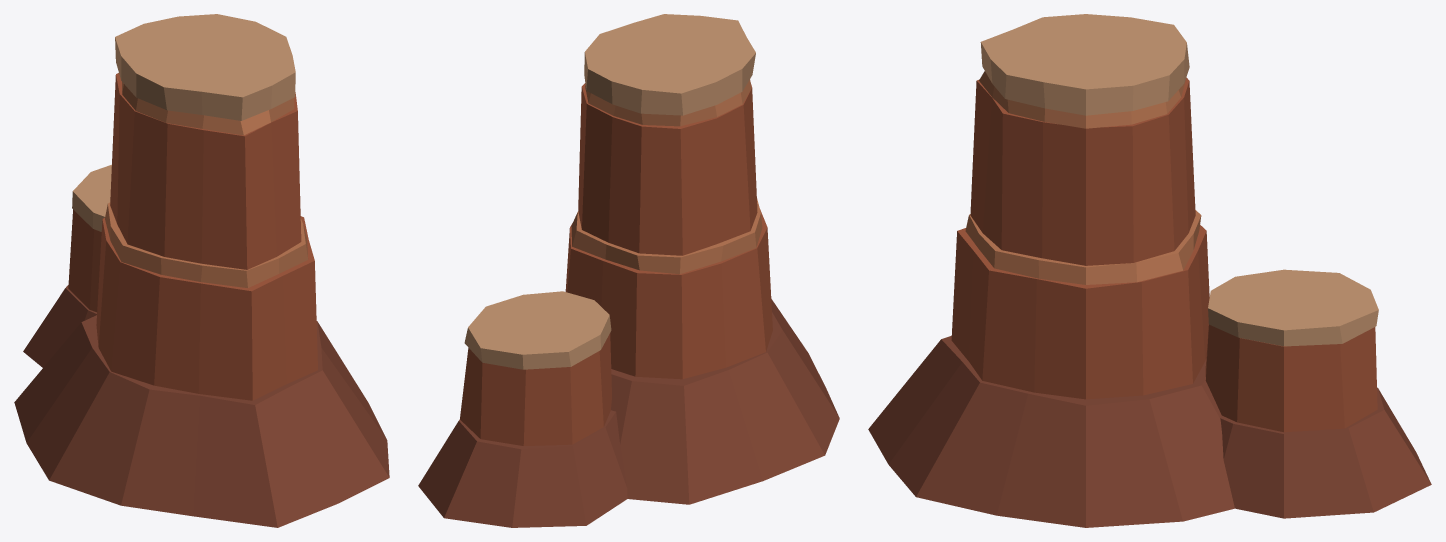
The model's file is butte.glb.
3 views of the same model, side by side, from view 1: azimuth 30°, elevation 25°; view 2: azimuth 150°, elevation 25°; view 3: azimuth 270°, elevation 25° (orthographic). The views are drawn at different scales.
Parts seen in each view (by area): view 1: butte; view 2: butte; view 3: butte.
Part boxes in pixels (x1=…): butte: x1=14, y1=14, x2=389, y2=527; butte: x1=418, y1=14, x2=839, y2=527; butte: x1=868, y1=14, x2=1431, y2=527.
Bounding box in the file's own units: 24.95 × 28.8 × 37.03.
